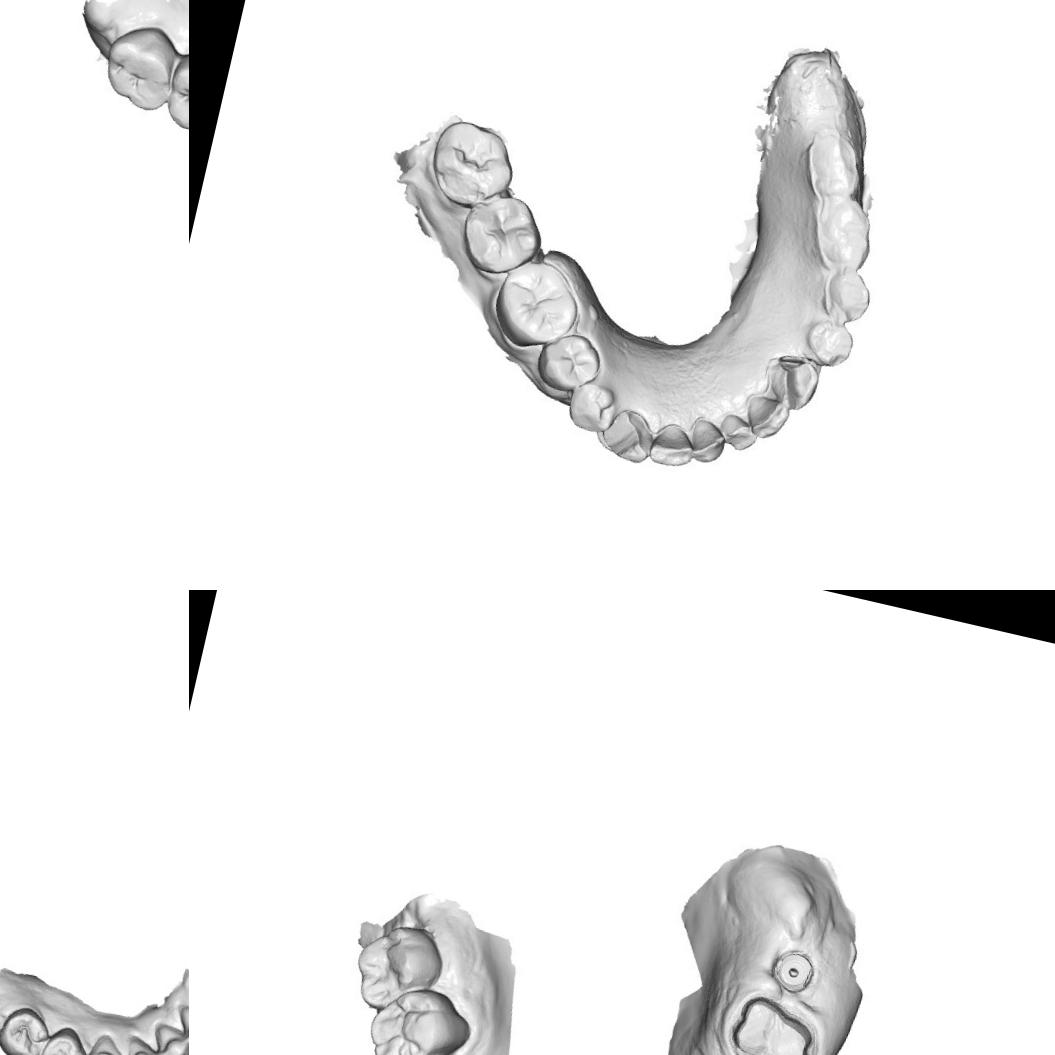canine: (770, 355, 818, 406), (81, 1031, 138, 1055)
crown: (720, 987, 831, 1055), (598, 406, 658, 466)
implant: (772, 945, 816, 994)
incisor: (687, 410, 730, 466), (649, 422, 698, 470), (744, 394, 793, 439), (145, 1020, 189, 1055), (722, 413, 760, 450), (119, 1033, 177, 1055), (170, 1003, 189, 1055)
molar: (348, 916, 448, 1023), (361, 975, 481, 1055), (492, 254, 580, 348), (429, 116, 518, 208), (95, 23, 180, 110), (462, 192, 541, 271), (809, 190, 883, 268), (800, 128, 870, 200), (163, 46, 189, 141)
premolar: (542, 332, 606, 392), (802, 312, 858, 373), (824, 266, 878, 322), (0, 1001, 54, 1055), (568, 381, 622, 434), (36, 1021, 94, 1055)
